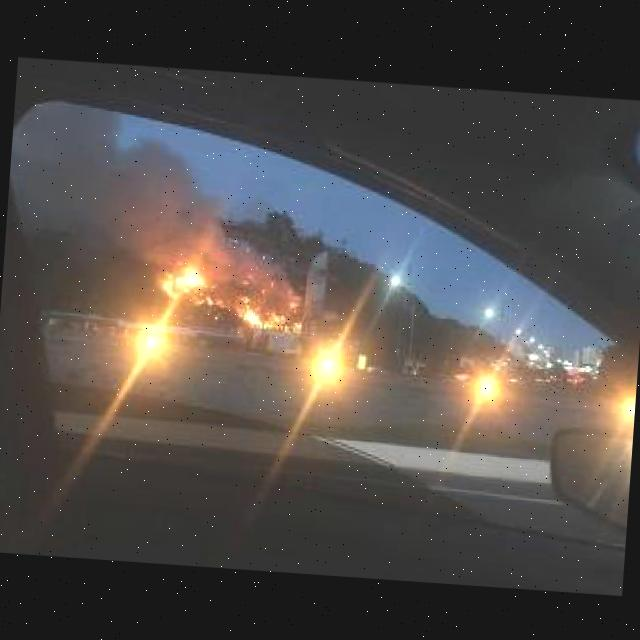fire: (237, 296, 303, 335), (160, 267, 220, 305)
